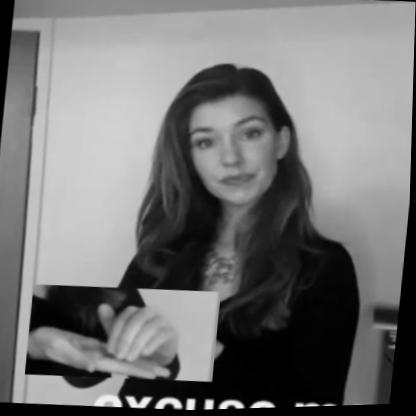ExcuseMe: (27, 280, 223, 388)
